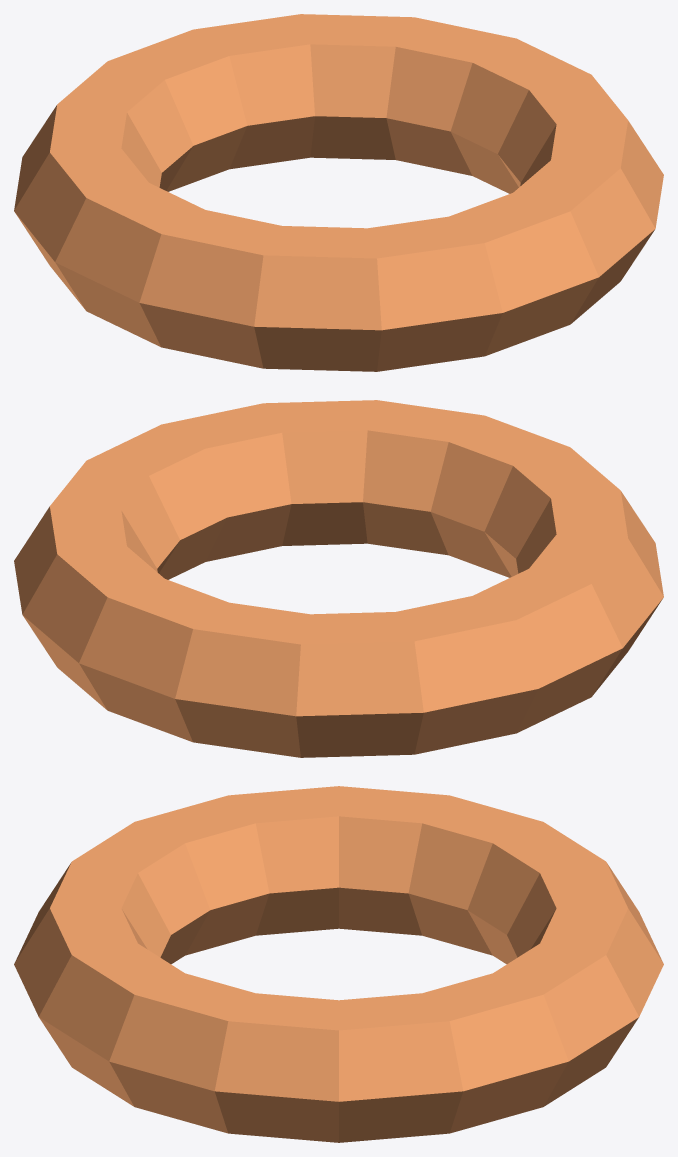
3 renders of one model, top to bottom at view 1: azimuth 30°, elevation 25°; view 2: azimuth 150°, elevation 25°; view 3: azimuth 270°, elevation 25°, orthographic.
Visible parts, largest first — view 1: Life ring; view 2: Life ring; view 3: Life ring.
Boxes of the visible parts, bbox=[...] form: Life ring: bbox=[14, 14, 663, 371]; Life ring: bbox=[14, 400, 663, 757]; Life ring: bbox=[14, 786, 663, 1142].
Size of the model in its own units: 59 by 11.26 by 59.
